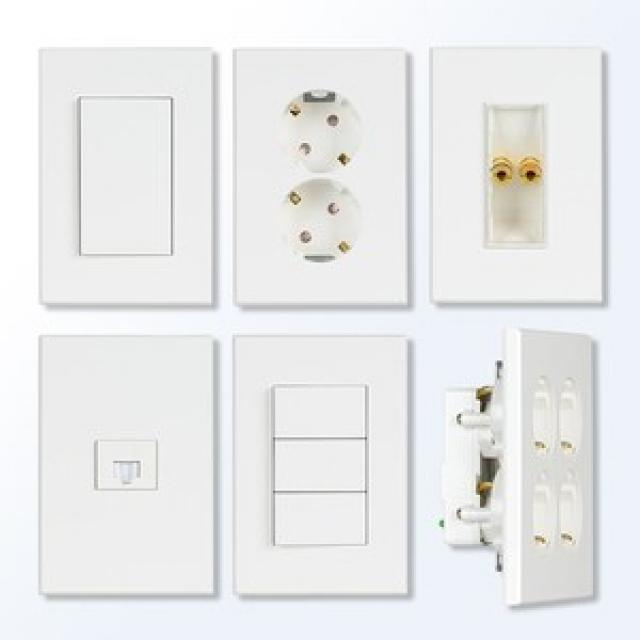typeb: (224, 38, 421, 315)
